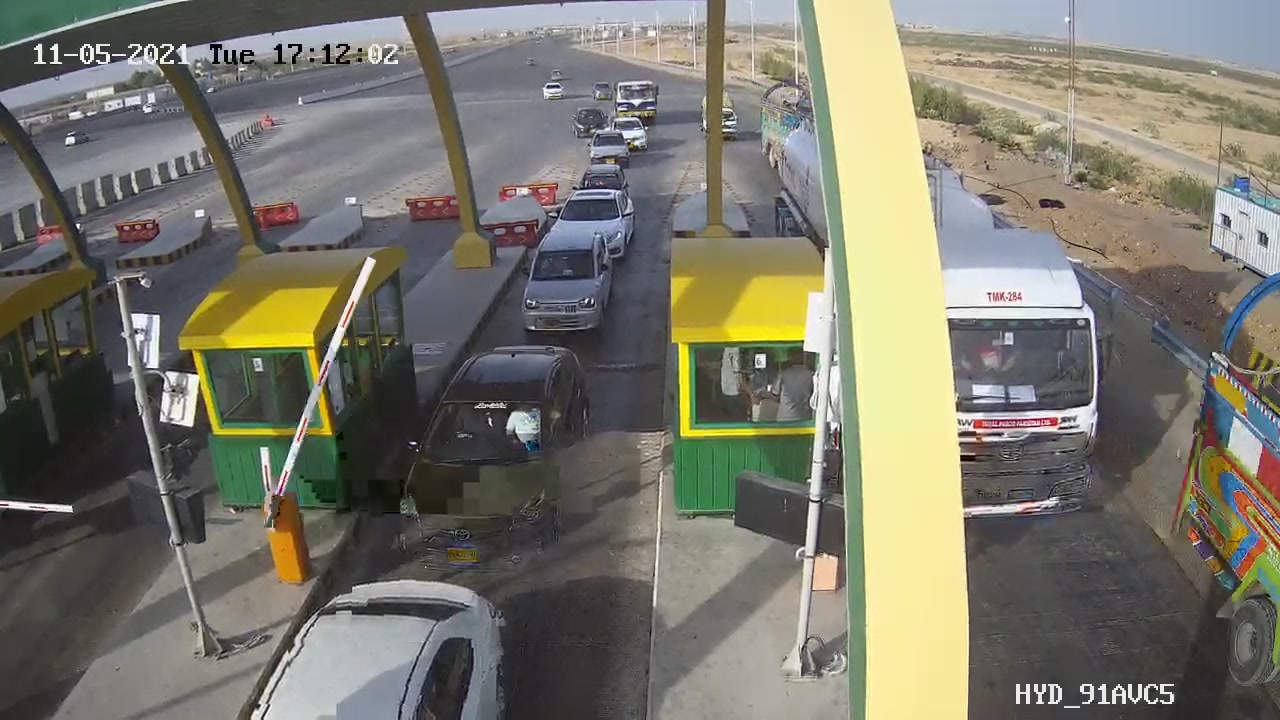F1: (507, 218, 631, 343)
